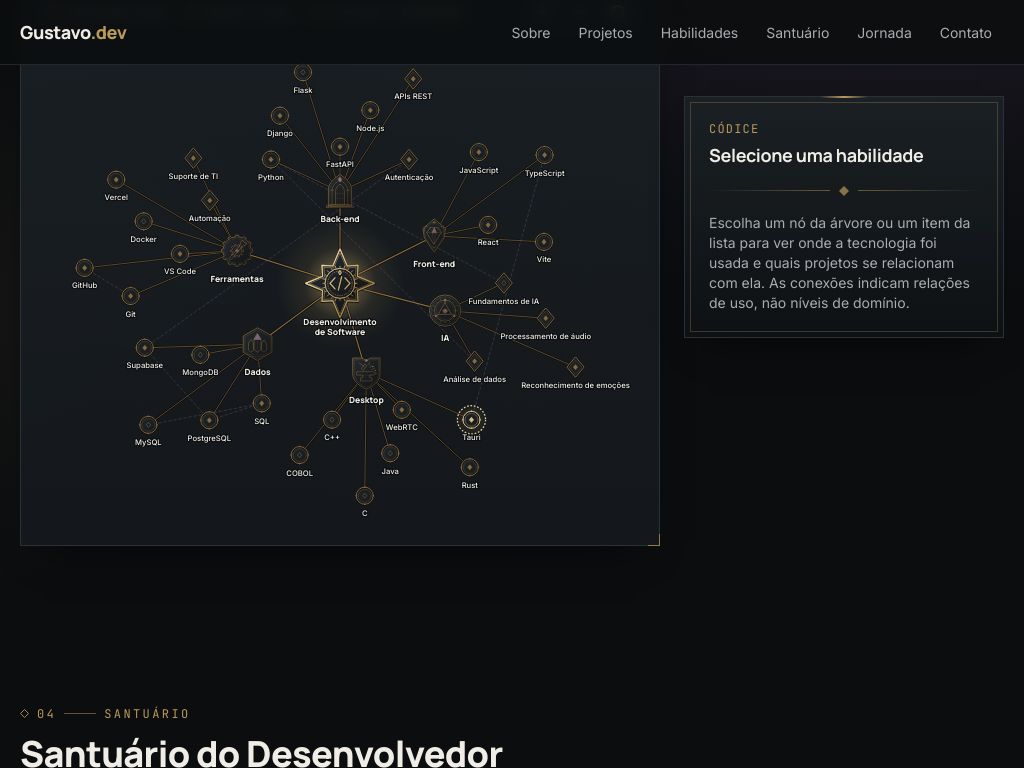
árvore de habilidades › seleciona um nó por teclado e abre o projeto relacionado
The width and height of the screenshot is (1024, 768).
(page scrolled)
Press Enter
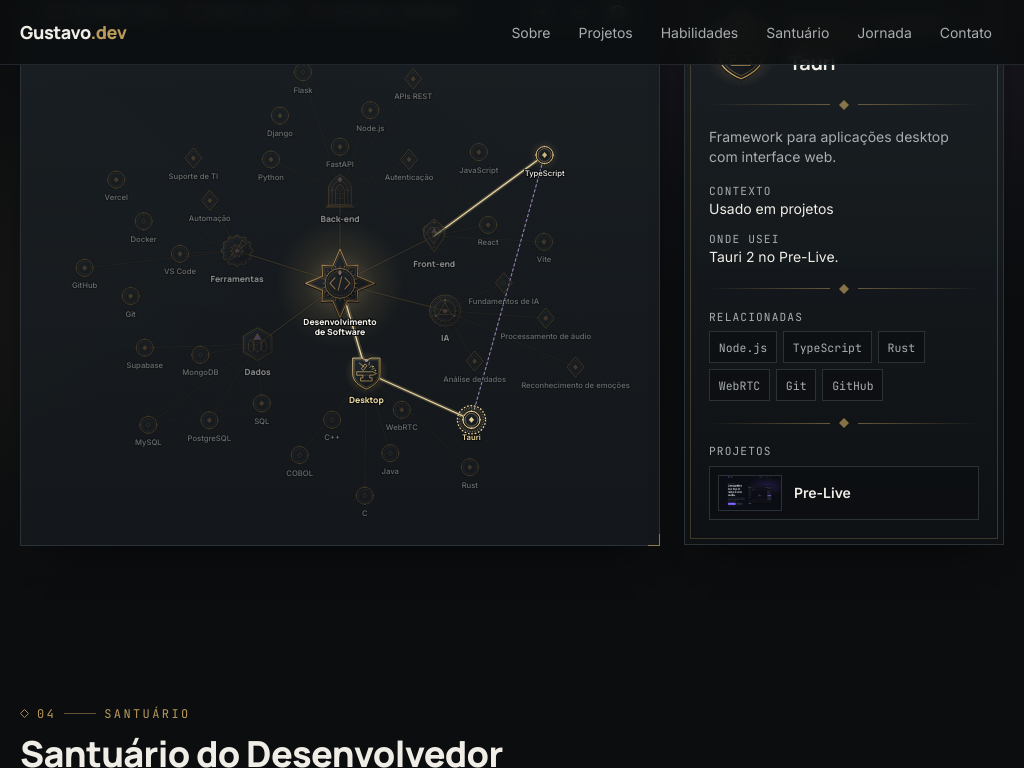
Check: the text "Tauri 2 no Pre-Live." is shown, box x1=709 y1=248 x2=839 y2=265
Click the button "Pre-Live" at [844, 494], box x1=709 y1=466 x2=979 y2=520
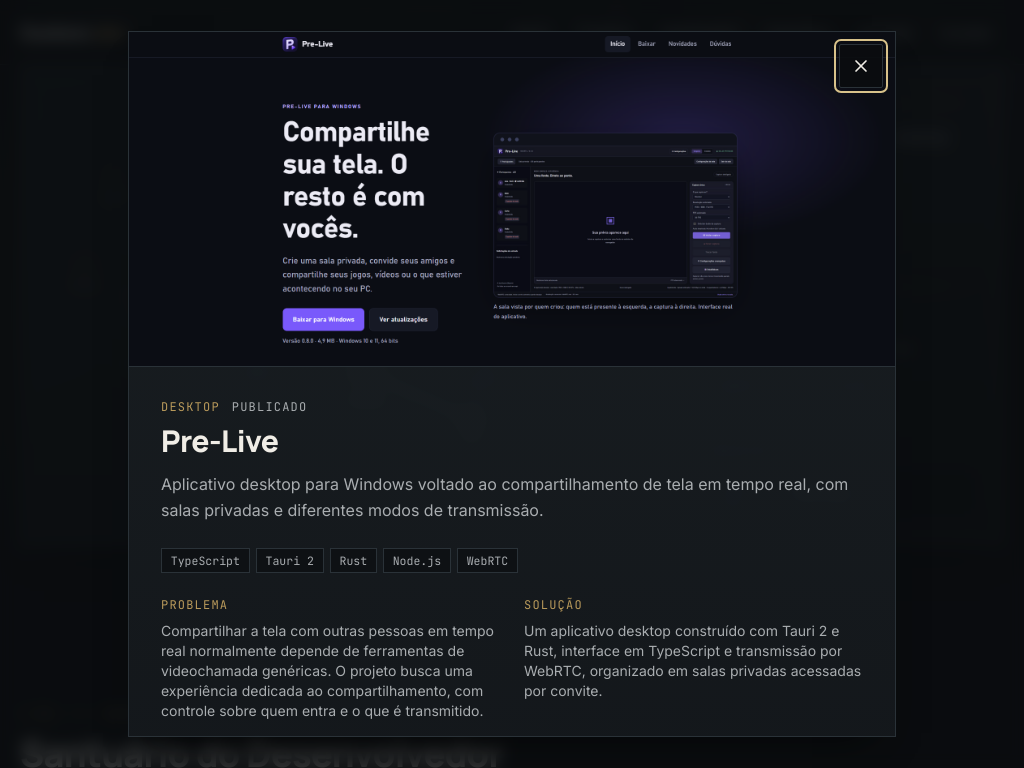
Check: the dialog "Pre-Live" is shown
